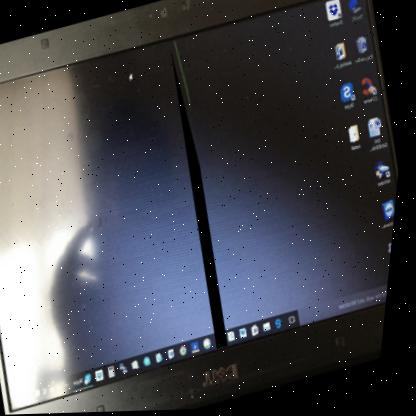lines: (145, 34, 259, 353)
